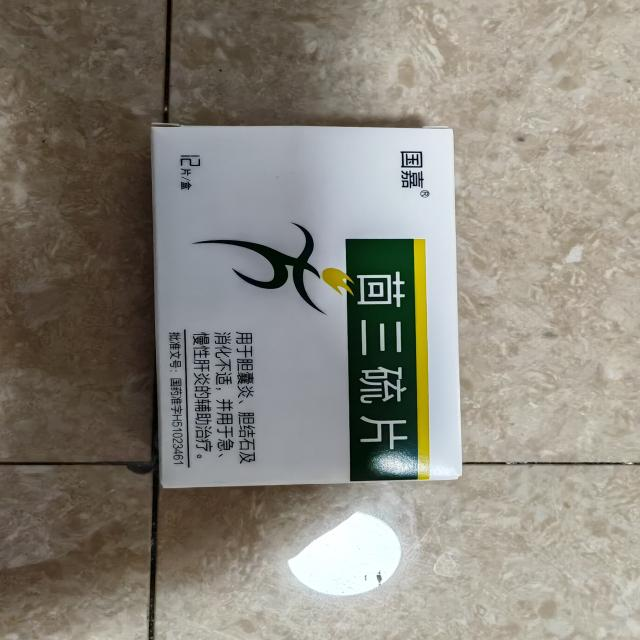box: (137, 111, 478, 499)
